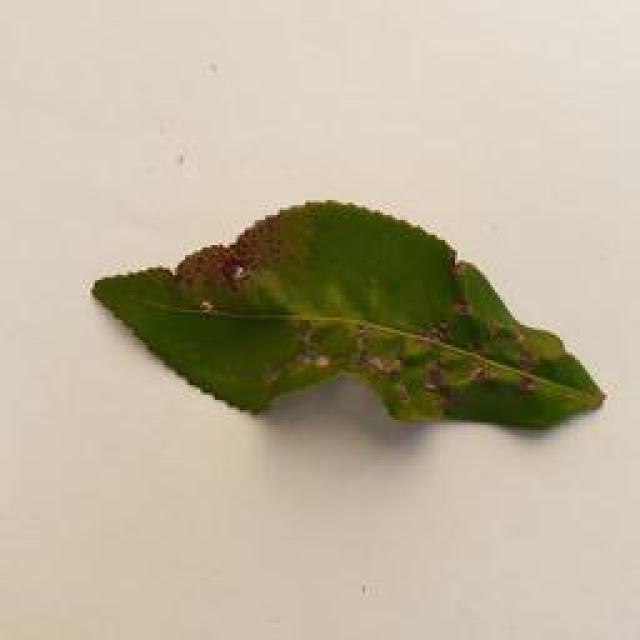Helopeltis: (87, 193, 619, 439)
